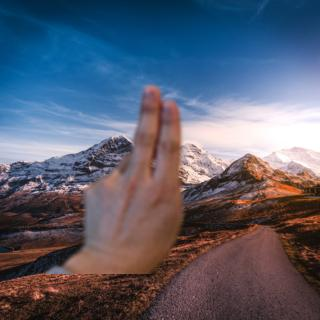DHAVE: (71, 78, 188, 267)
